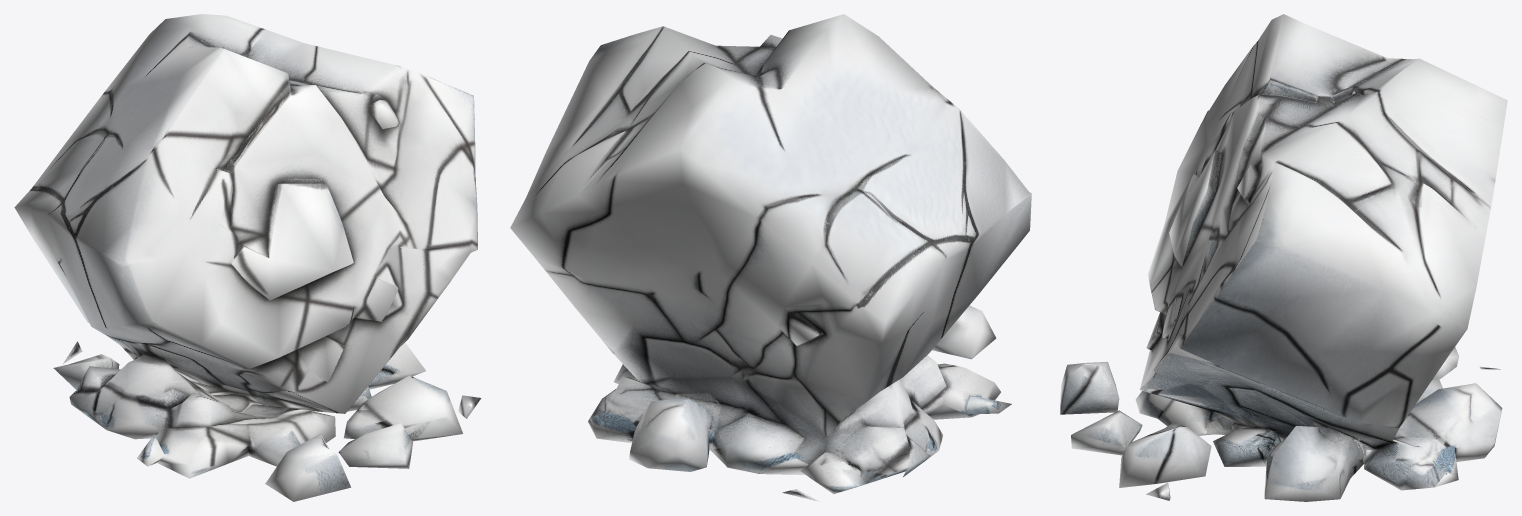
The model's file is p_stone_pillar_falling.glb.
3 views of the same model, side by side, from view 1: azimuth 30°, elevation 25°; view 2: azimuth 150°, elevation 25°; view 3: azimuth 270°, elevation 25° (orthographic). The views are drawn at different scales.
Visible parts, largest first — view 1: Mesh_0; view 2: Mesh_0; view 3: Mesh_0.
Part boxes in pixels (box(x1,y1,x2,y2)): Mesh_0: box(14, 14, 481, 501); Mesh_0: box(510, 14, 1031, 501); Mesh_0: box(1060, 14, 1507, 501).
Size of the model in its own units: 1.91 by 1.8 by 1.86.
1 material, 1 textured.
